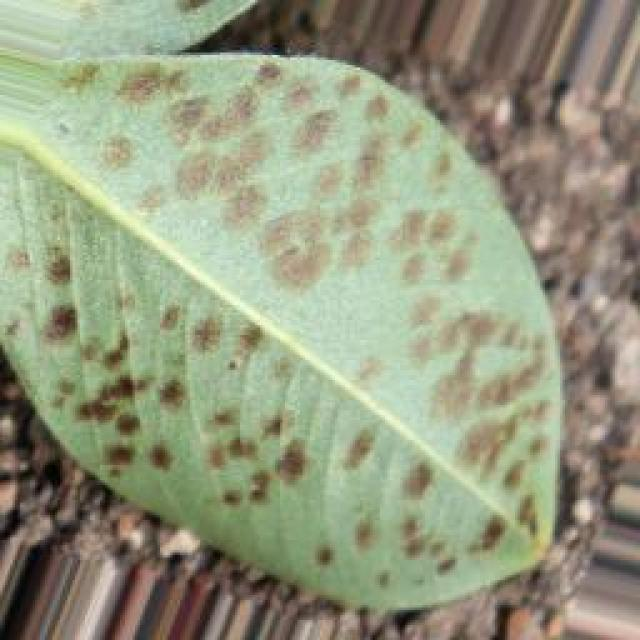Whitefly: (0, 58, 568, 612)
